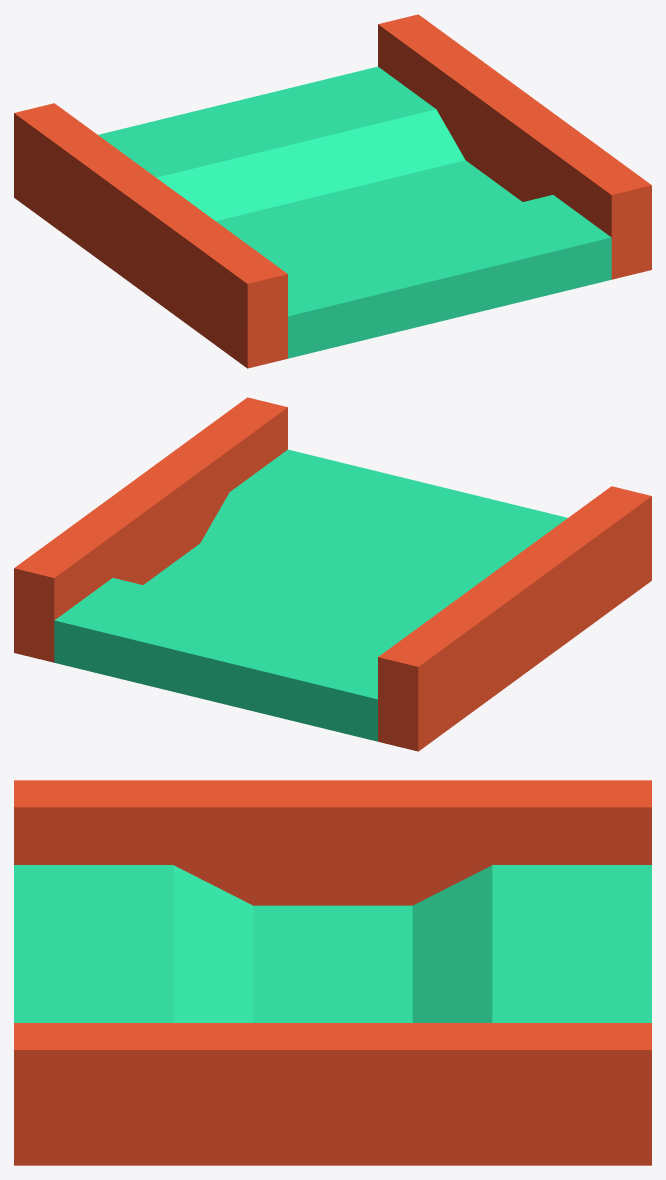
The model's file is track_7.fbx.
3 renders of one model, top to bottom at view 1: azimuth 30°, elevation 25°; view 2: azimuth 150°, elevation 25°; view 3: azimuth 270°, elevation 25°, orthographic. The views are drawn at different scales.
Visible parts, largest first — view 1: straight_valley_16; view 2: straight_valley_16; view 3: straight_valley_16.
Part boxes in pixels (x1,y1,x2,y2): straight_valley_16: (14, 14, 651, 368); straight_valley_16: (14, 397, 651, 751); straight_valley_16: (14, 780, 651, 1165).
Bounding box in the file's own units: 10 × 2 × 10.
